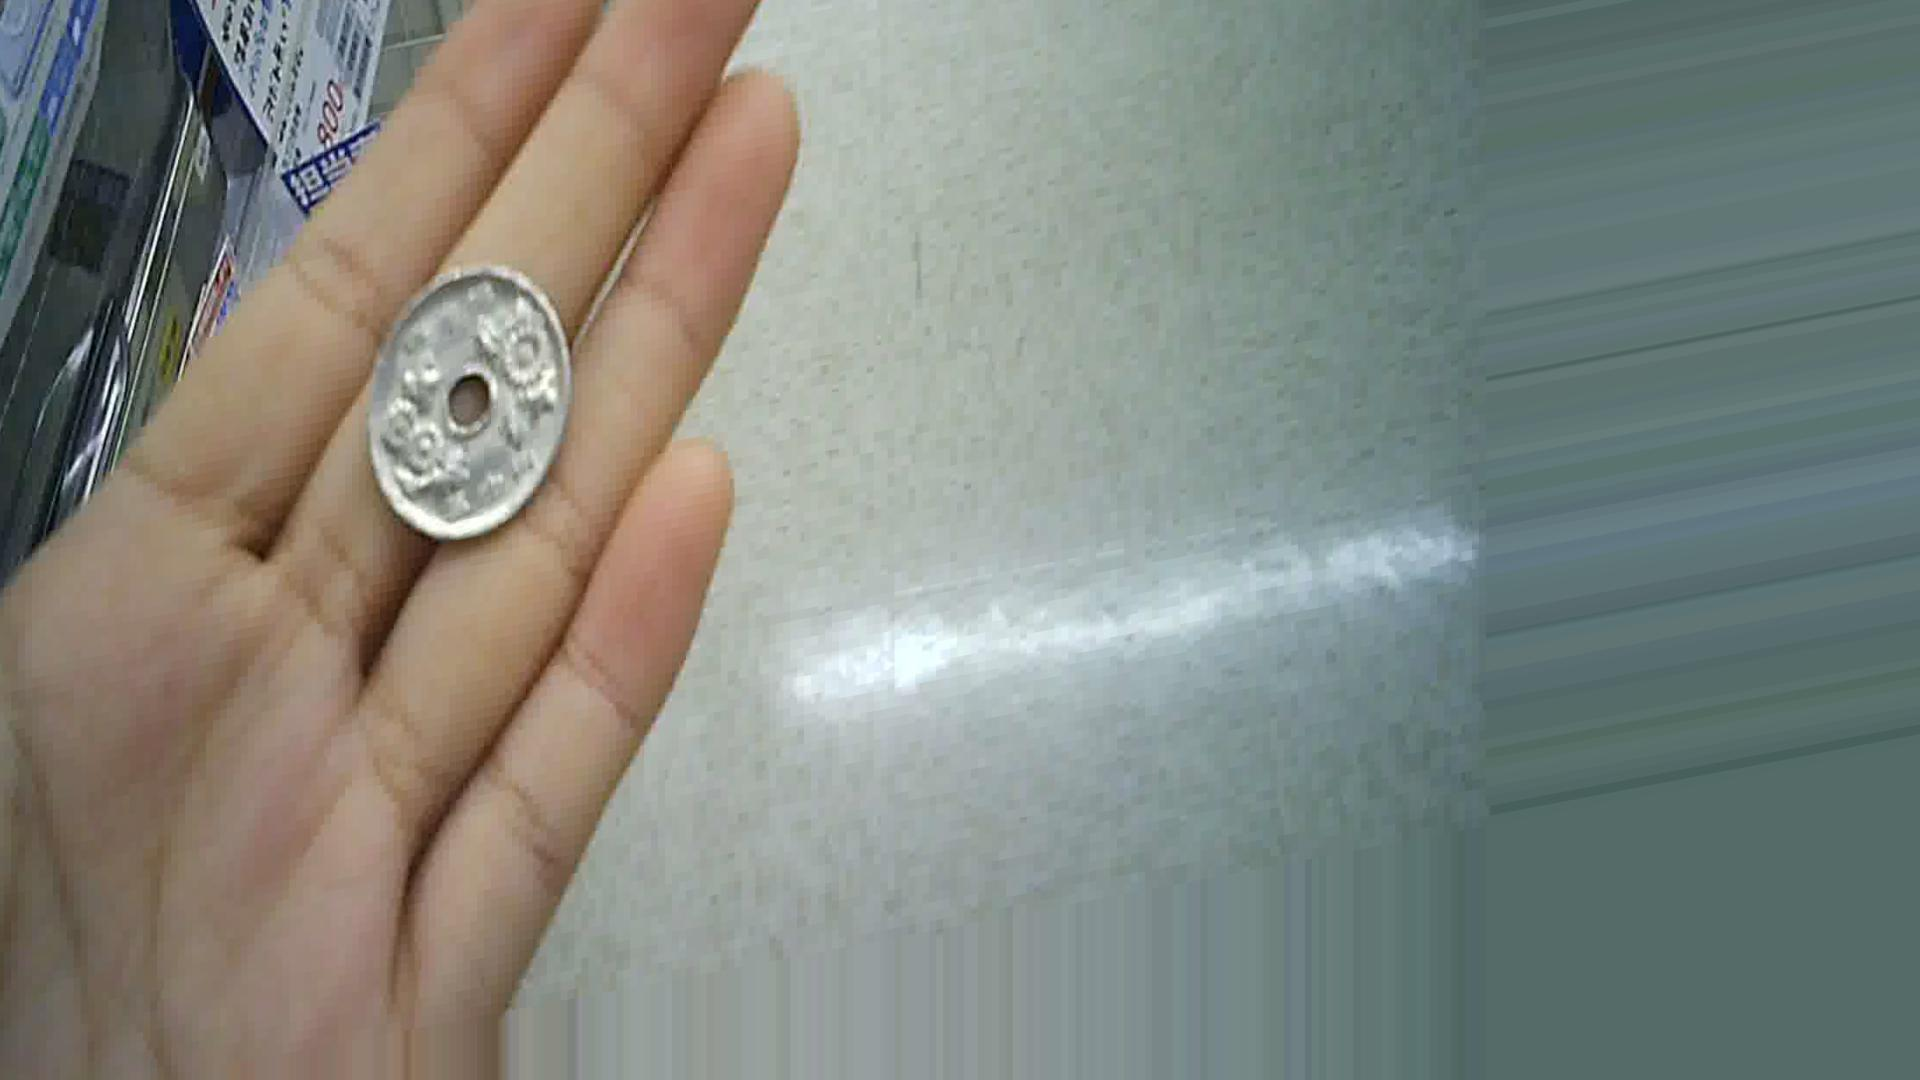50 Yen: (361, 258, 564, 549)
